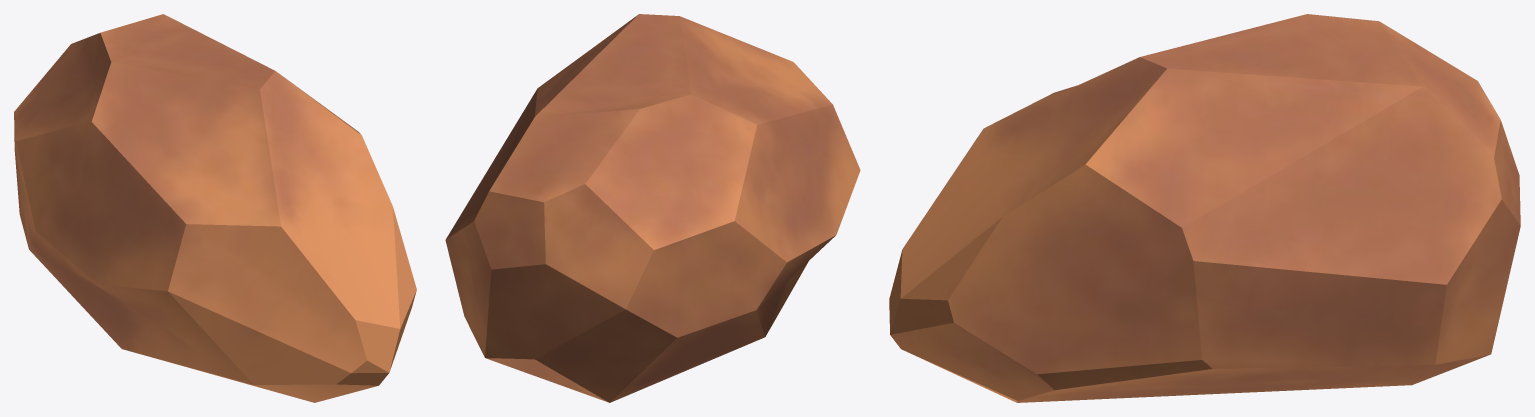
The model's file is Rock_6.gltf.
3 views of the same model, side by side, from view 1: azimuth 30°, elevation 25°; view 2: azimuth 150°, elevation 25°; view 3: azimuth 270°, elevation 25° (orthographic). The views are drawn at different scales.
Visible parts, largest first — view 1: Rock_6; view 2: Rock_6; view 3: Rock_6.
Part boxes in pixels (bbox=[...]): Rock_6: bbox=[14, 14, 416, 402]; Rock_6: bbox=[445, 14, 860, 402]; Rock_6: bbox=[889, 14, 1520, 402].
Bounding box in the file's own units: 1.8 × 1.68 × 2.83.
1 material, 1 textured.
